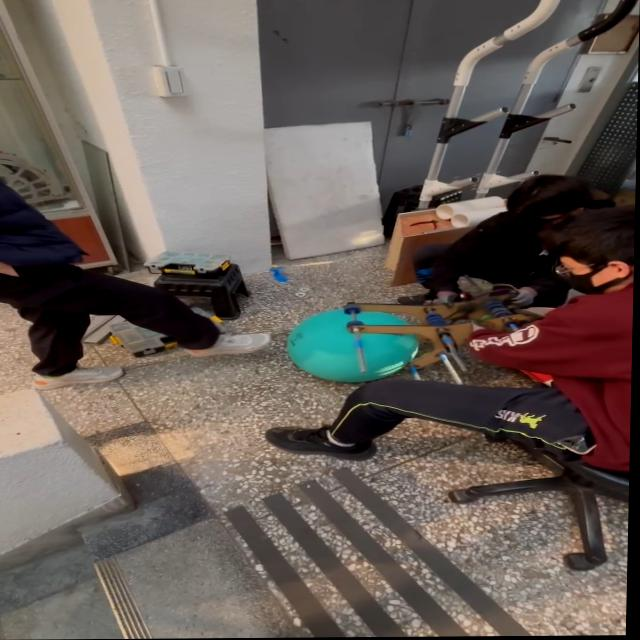ALGAE: (283, 306, 421, 384)
